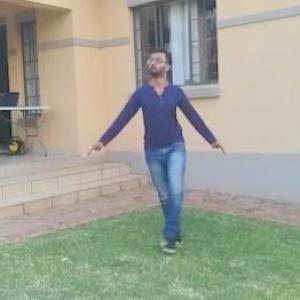land: (109, 63, 208, 221)
